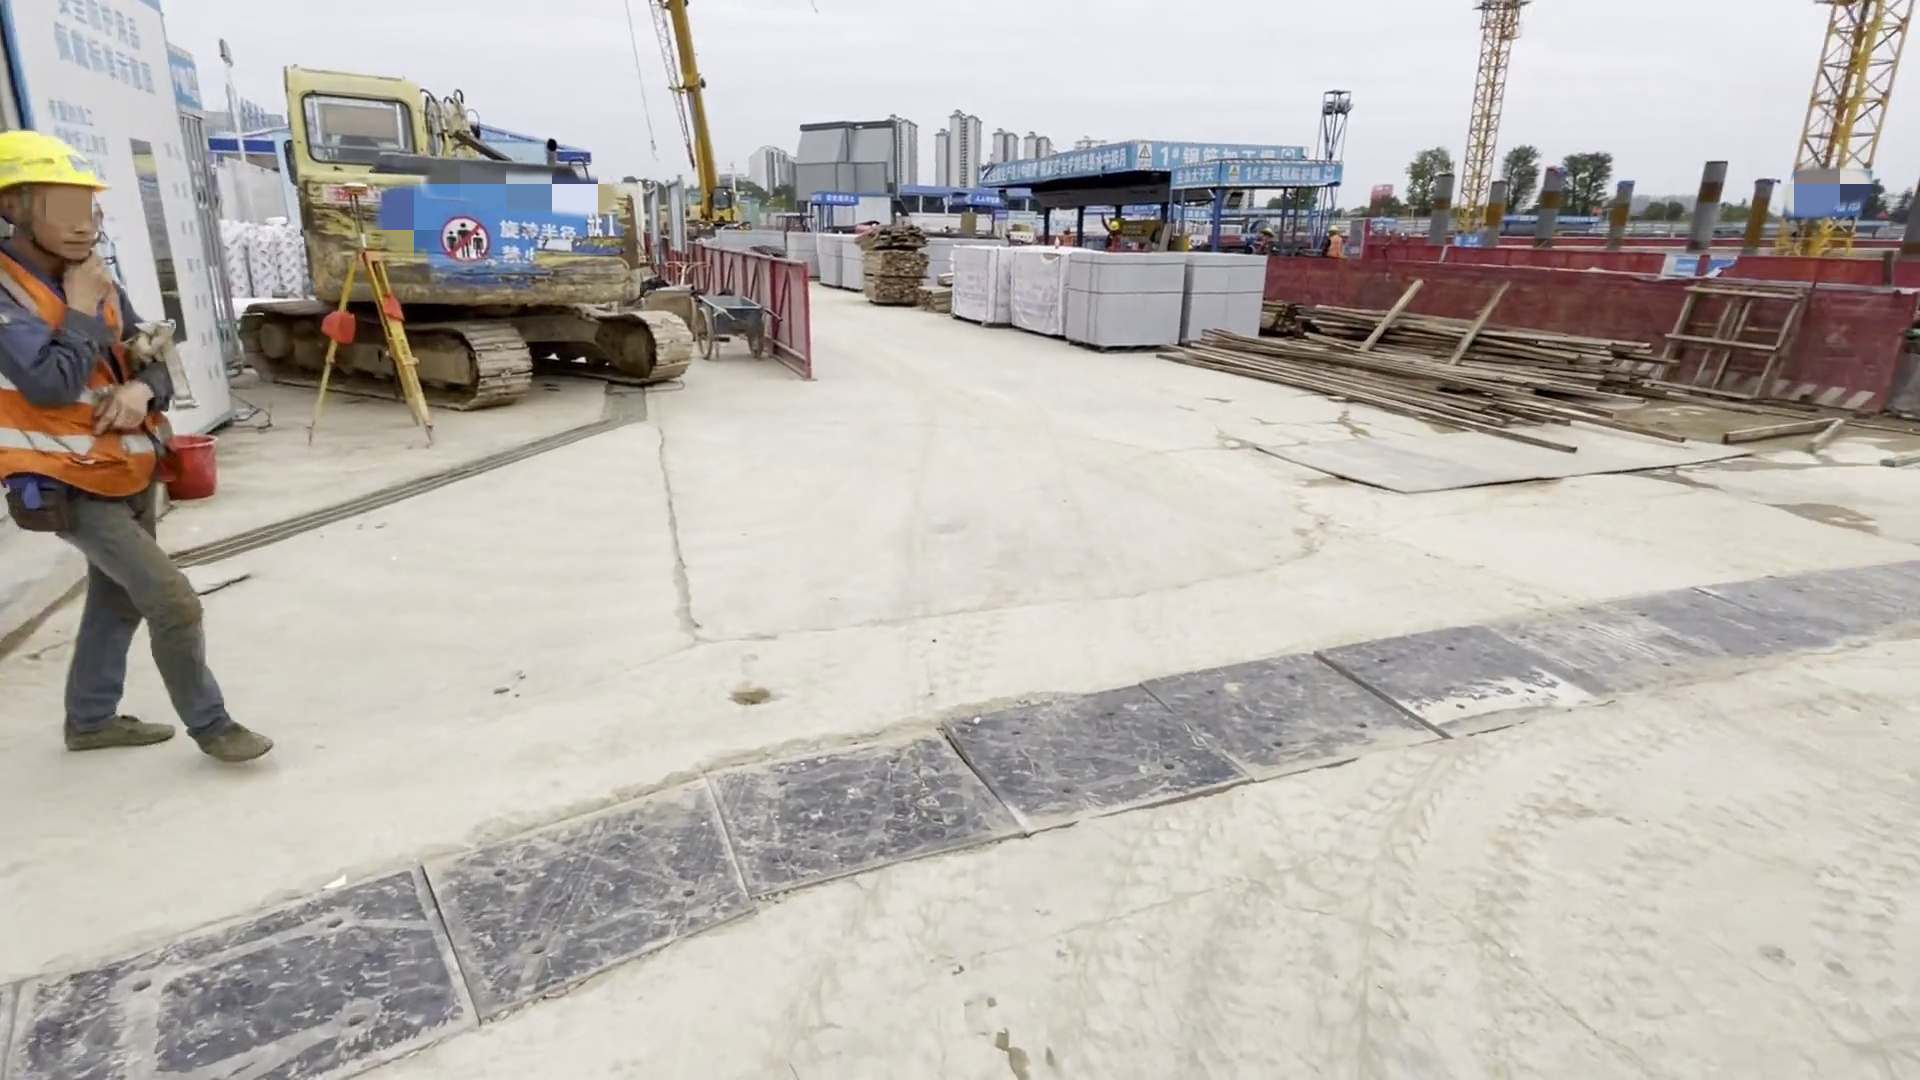helmet: (1, 131, 119, 207), (1325, 221, 1343, 232), (1106, 220, 1120, 231)
person: (1, 114, 271, 770), (1323, 222, 1348, 256), (1105, 219, 1121, 247)
vest: (1, 253, 169, 505), (1324, 233, 1344, 254)
